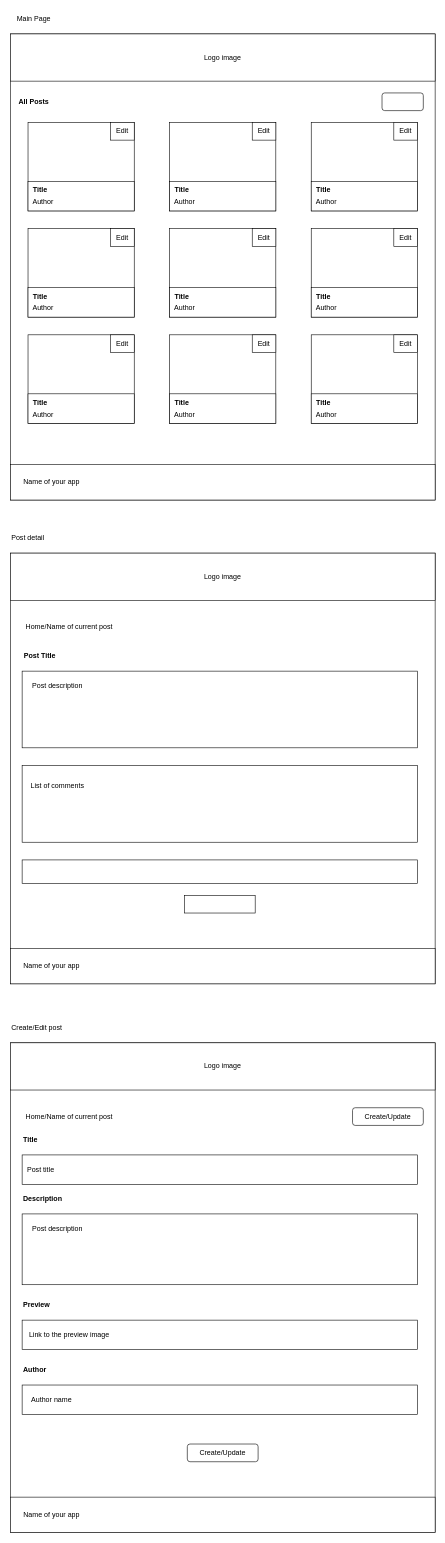
This 445x1543 diagram has some shape labels left out. Each missing label, with the centre of its shape:
"Add comment" goes at (x=219, y=904).
"Add Post" goes at (x=402, y=101).
"Field for input comment" goes at (x=219, y=871).
